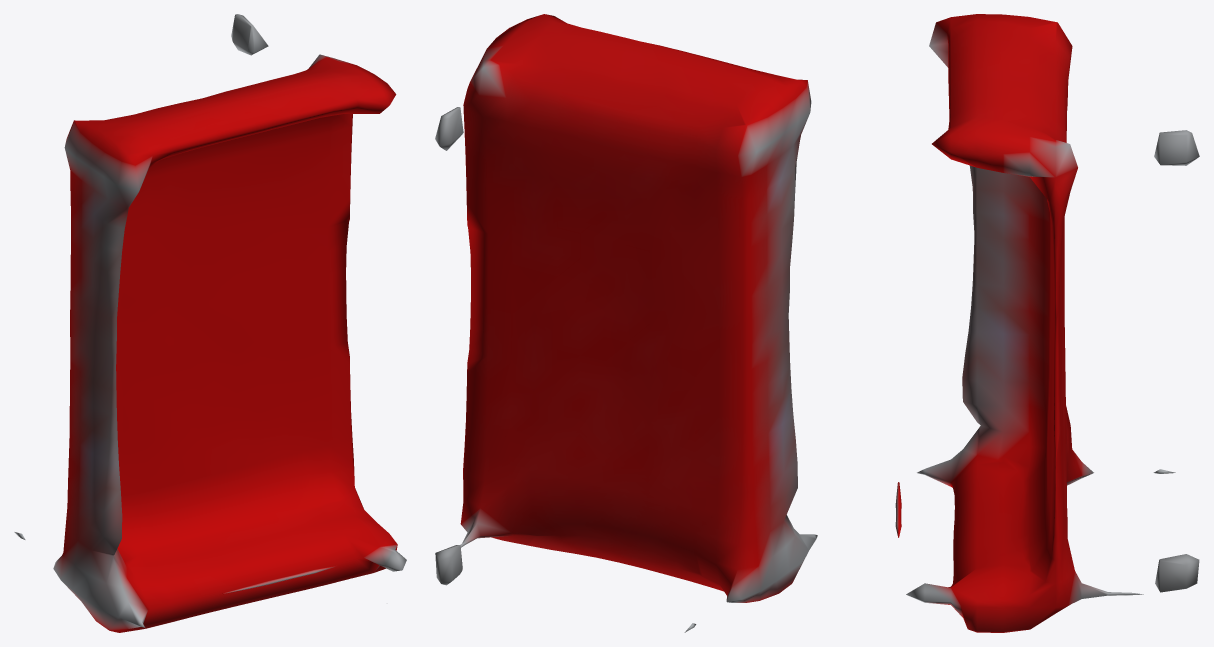
Rendered from a movable chair.obj.
3 views of the same model, side by side, from view 1: azimuth 30°, elevation 25°; view 2: azimuth 150°, elevation 25°; view 3: azimuth 270°, elevation 25° (orthographic). The views are drawn at different scales.
Size of the model in its own units: 0.2087 by 0.3397 by 0.2188.
